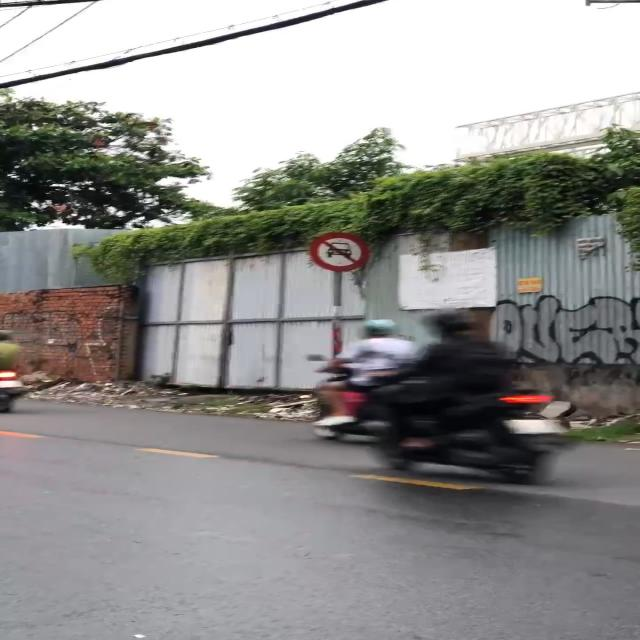Bien bao cam xe oto: (303, 228, 374, 273)
